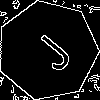J: (22, 25, 76, 75)
